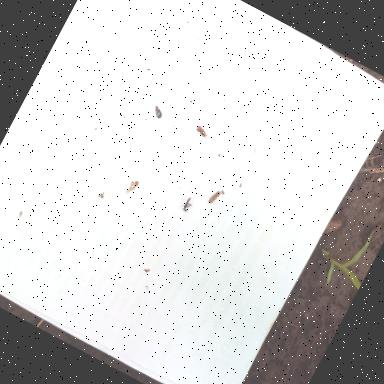pbw: (123, 176, 139, 196), (208, 187, 222, 205), (192, 124, 208, 137)
